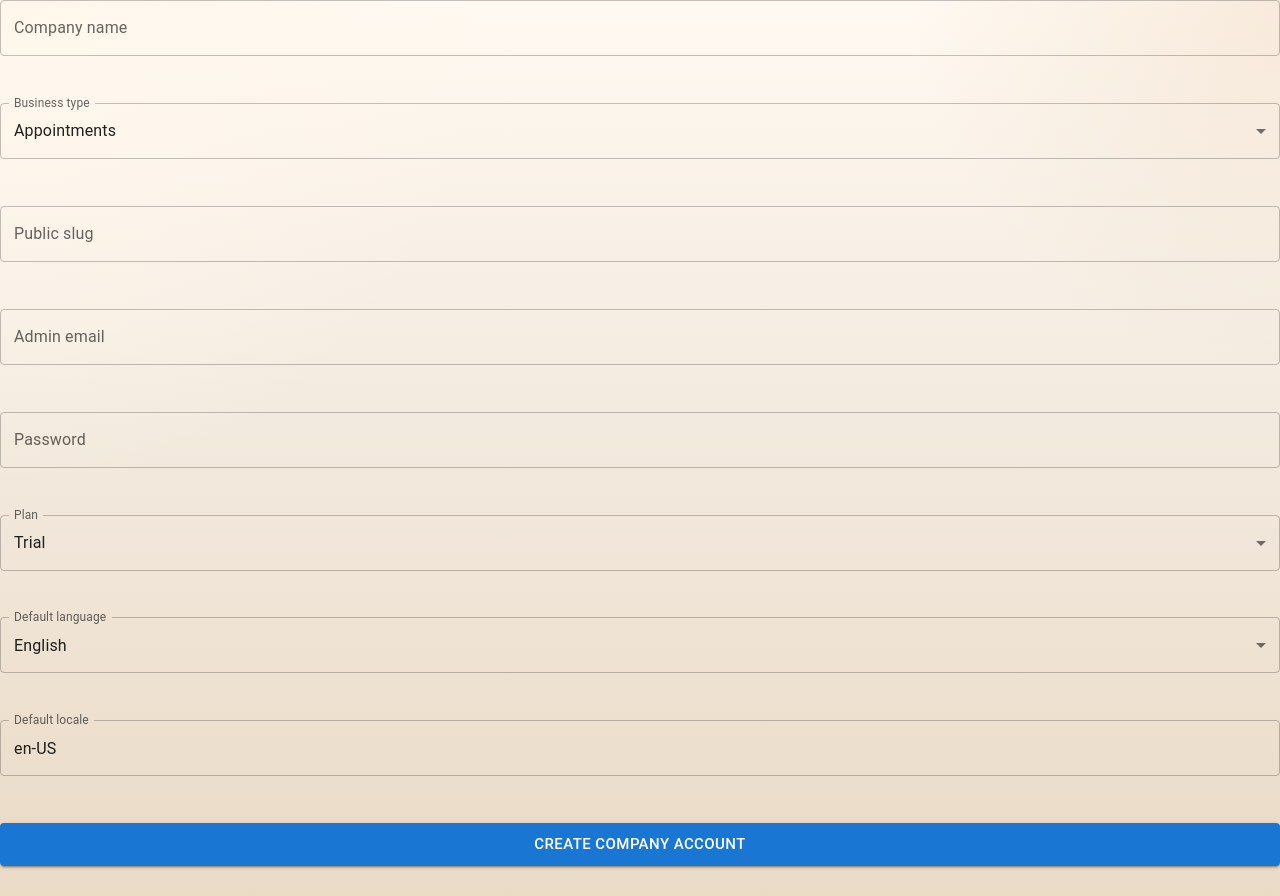
it: RegistrationForm › renders backend conflict errors clearly
Step 1. Type "Acme Wellness" into the field labelled "Company name" → (640, 28), box [0,0,1279,56]
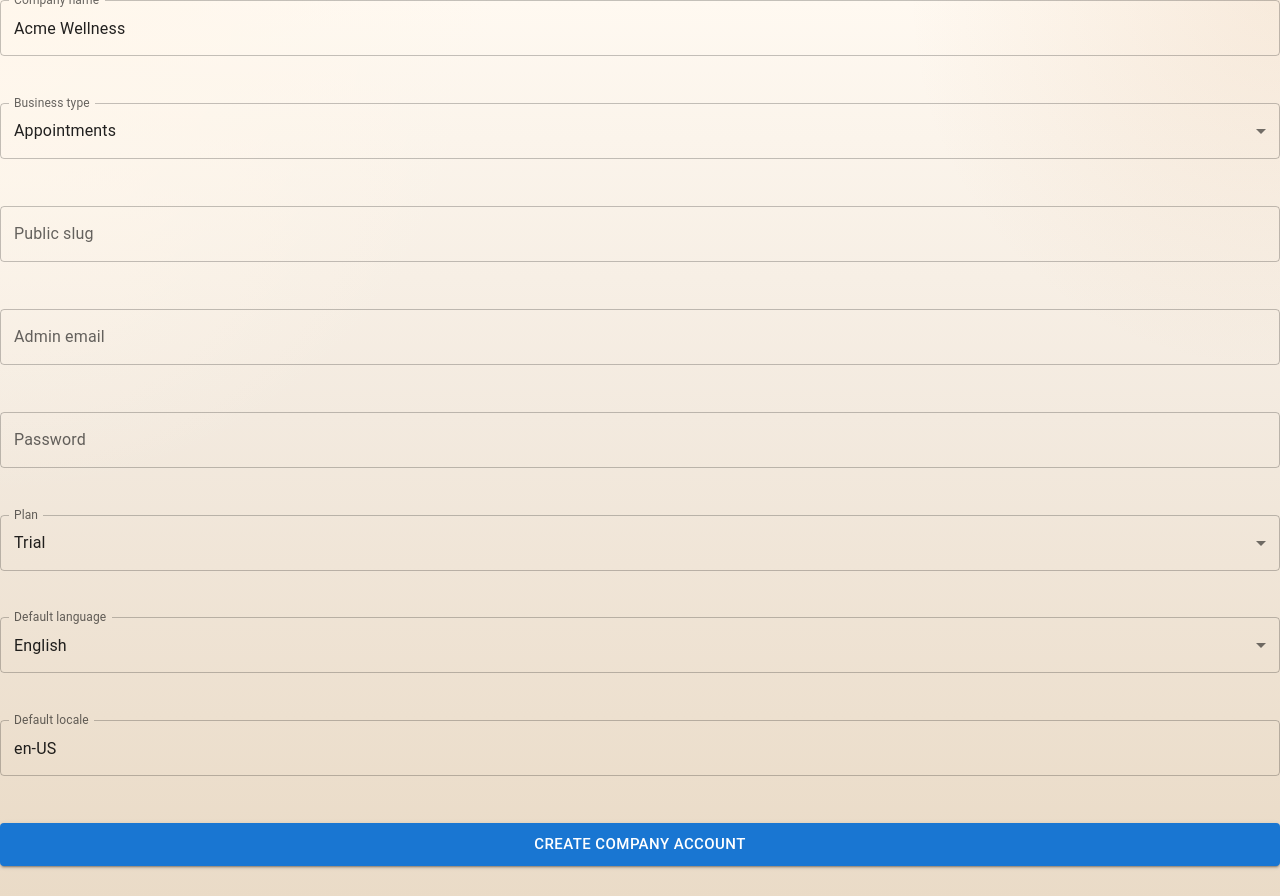
Step 2. Type "acme-wellness" into the field labelled "Public slug" → (640, 234), box [0,206,1279,262]
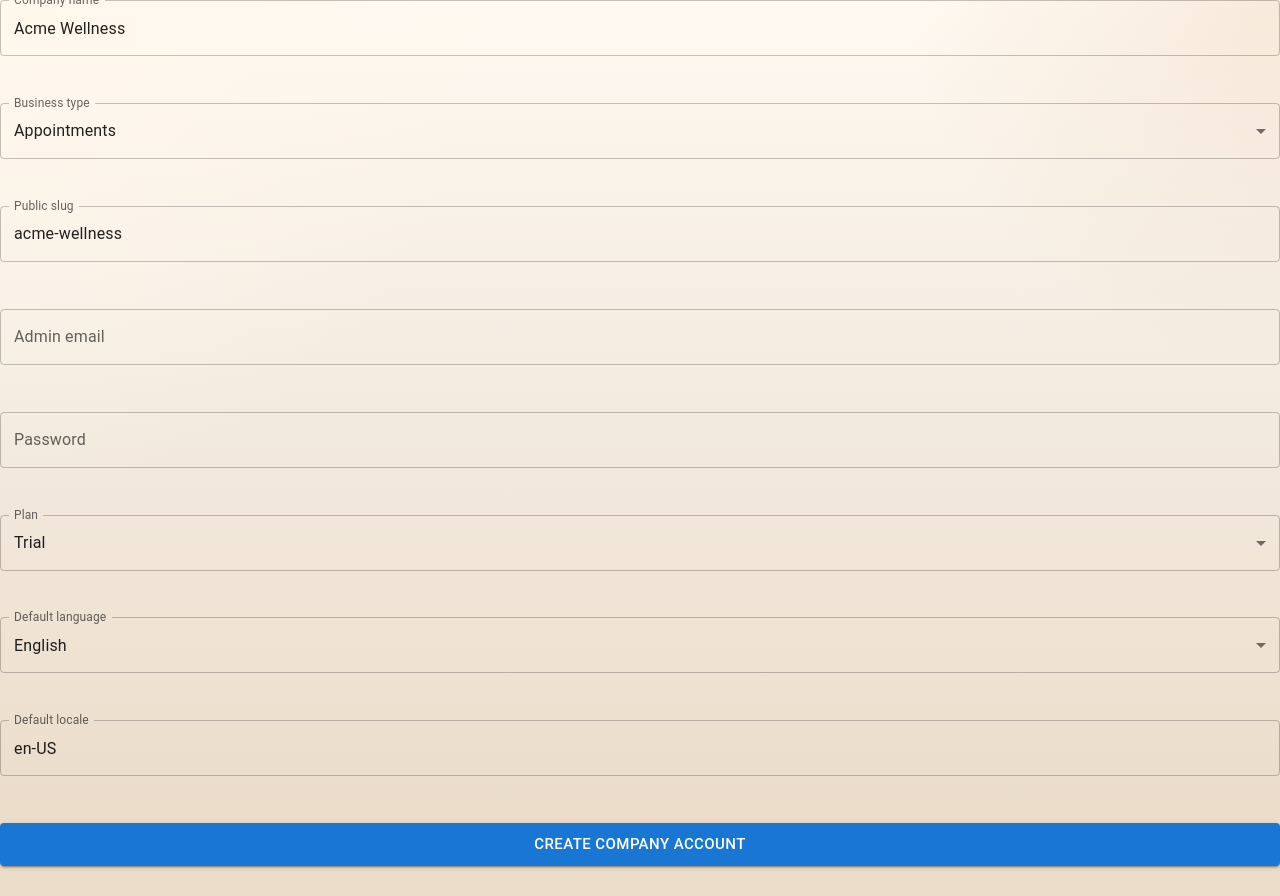
Step 3. Type "admin@acme.com" into the field labelled "Admin email" → (640, 337), box [0,309,1279,365]
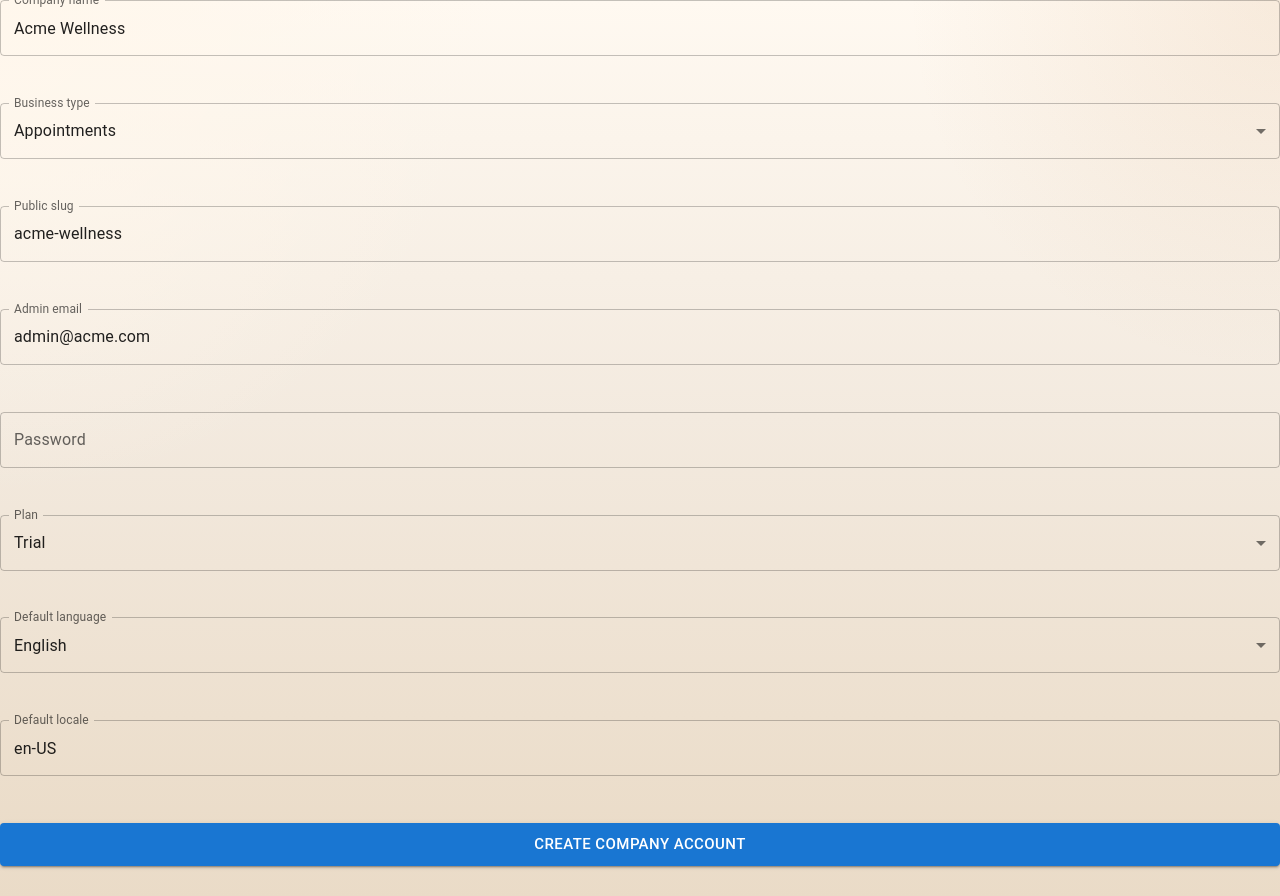
Step 4. Type "SecurePass123" into the password field labelled "Password" → (640, 440), box [0,412,1279,468]
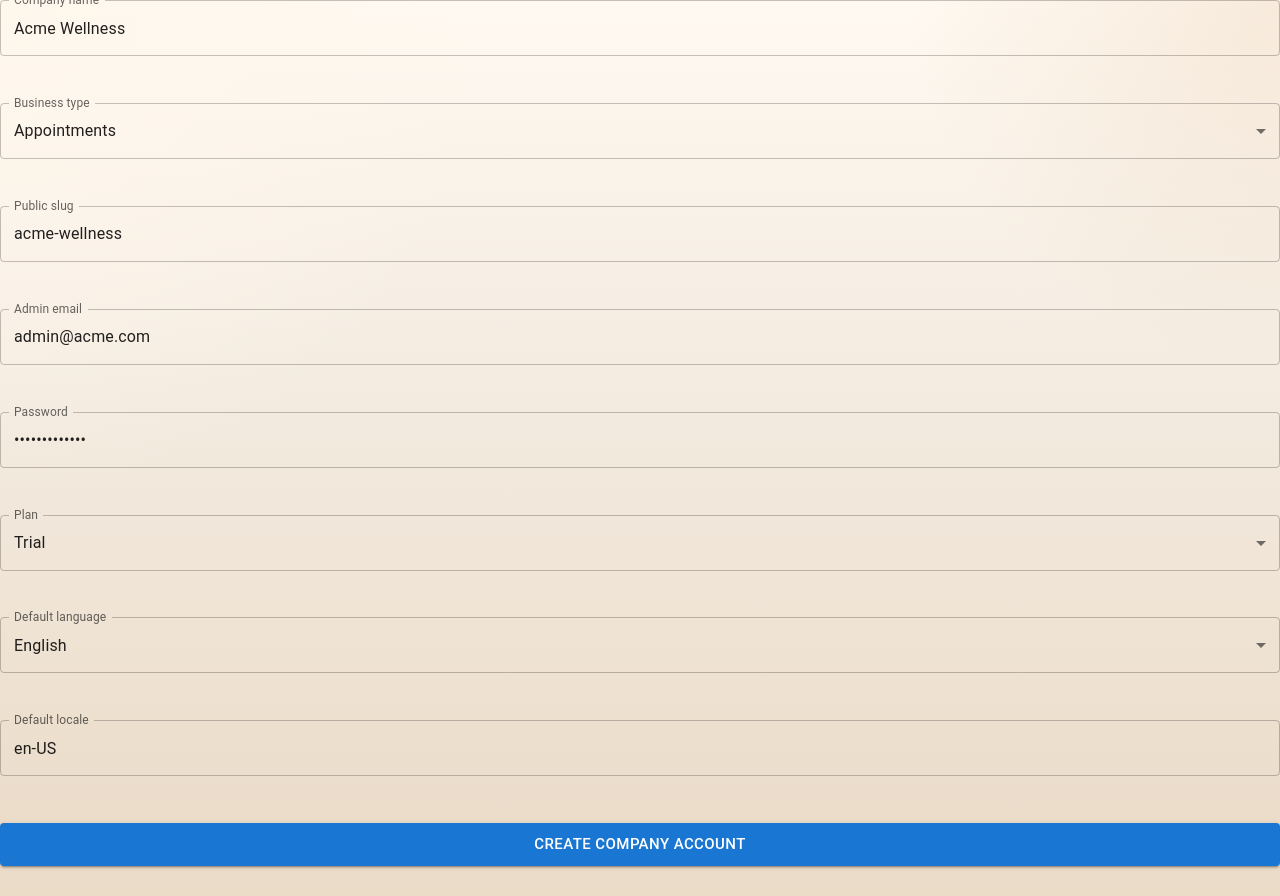
Step 5. Click the button "Create company account" → (640, 844), box [0,823,1279,866]
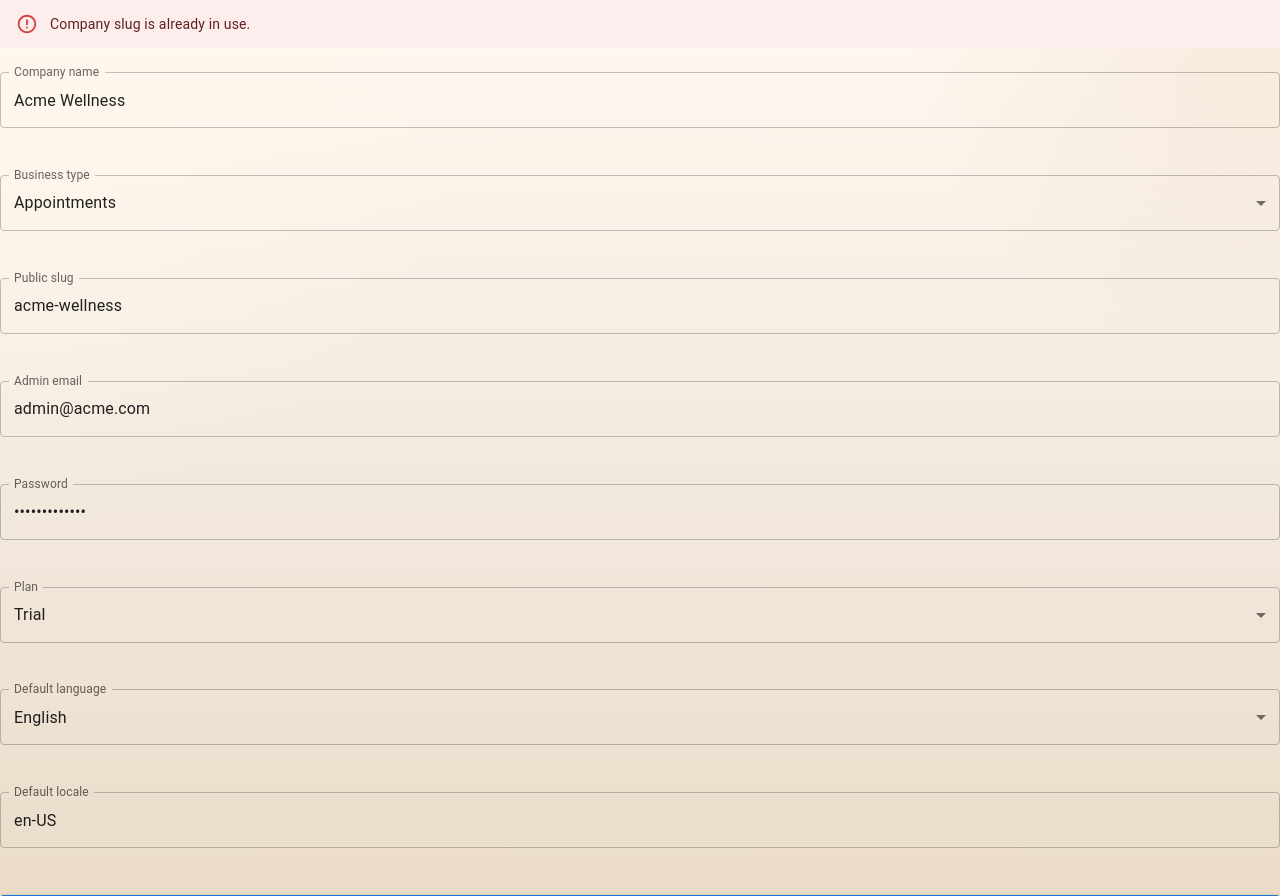
Expected: the text "Company slug is already in use." is shown, [50,16,250,32]
